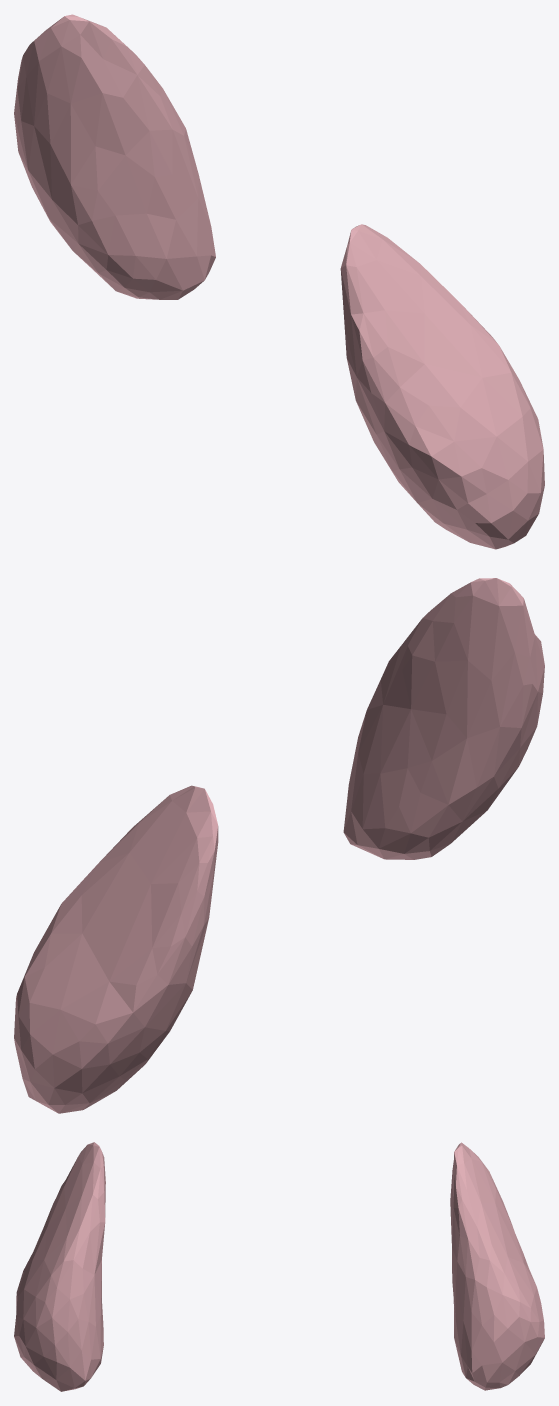
3 renders of one model, top to bottom at view 1: azimuth 30°, elevation 25°; view 2: azimuth 150°, elevation 25°; view 3: azimuth 270°, elevation 25°, orthographic. The views are drawn at different scales.
Parts seen in each view (by area): view 1: 64.obj; view 2: 64.obj; view 3: 64.obj.
Boxes of the visible parts, box(x1,y1,x2,y2) form: 64.obj: box(14, 14, 544, 549); 64.obj: box(14, 578, 544, 1113); 64.obj: box(14, 1142, 544, 1391).
Size of the model in its own units: 515 by 859 by 1996.
